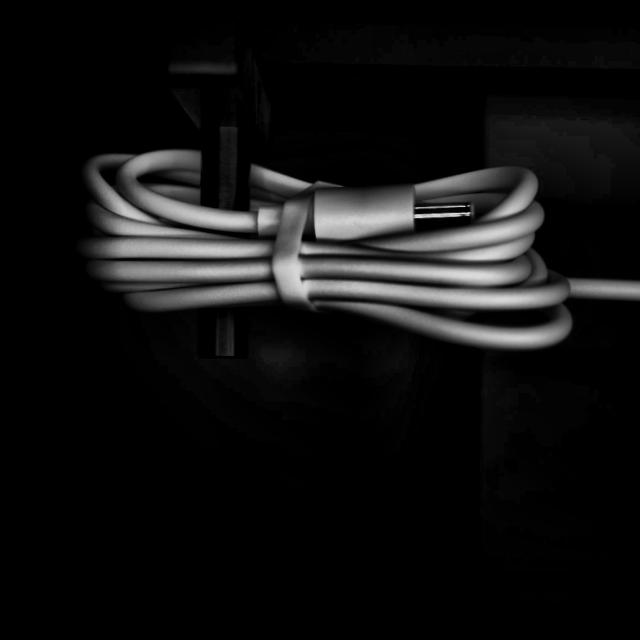Cable: (65, 143, 640, 358)
